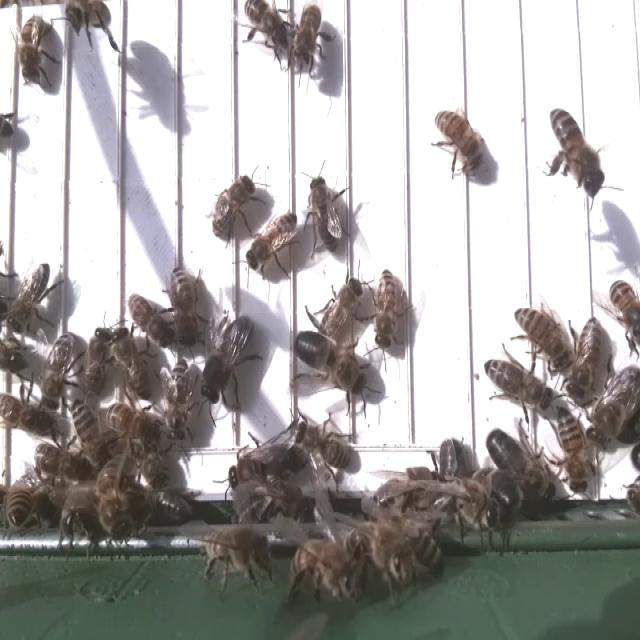Drone: (482, 424, 558, 509), (287, 327, 368, 402), (196, 310, 256, 410), (586, 364, 640, 454), (226, 440, 306, 495)
Worker: (546, 104, 604, 204), (481, 354, 557, 414), (9, 256, 56, 340), (432, 106, 486, 177), (512, 303, 569, 369), (558, 403, 595, 498), (111, 323, 154, 403), (563, 315, 602, 403), (37, 328, 76, 415), (209, 171, 258, 240), (163, 354, 198, 446), (306, 171, 343, 257), (245, 212, 298, 272), (293, 418, 353, 471), (288, 0, 326, 78), (13, 10, 50, 88), (126, 287, 172, 349), (239, 0, 290, 54), (168, 260, 198, 348), (82, 321, 114, 403), (608, 274, 640, 352), (373, 264, 401, 353)
